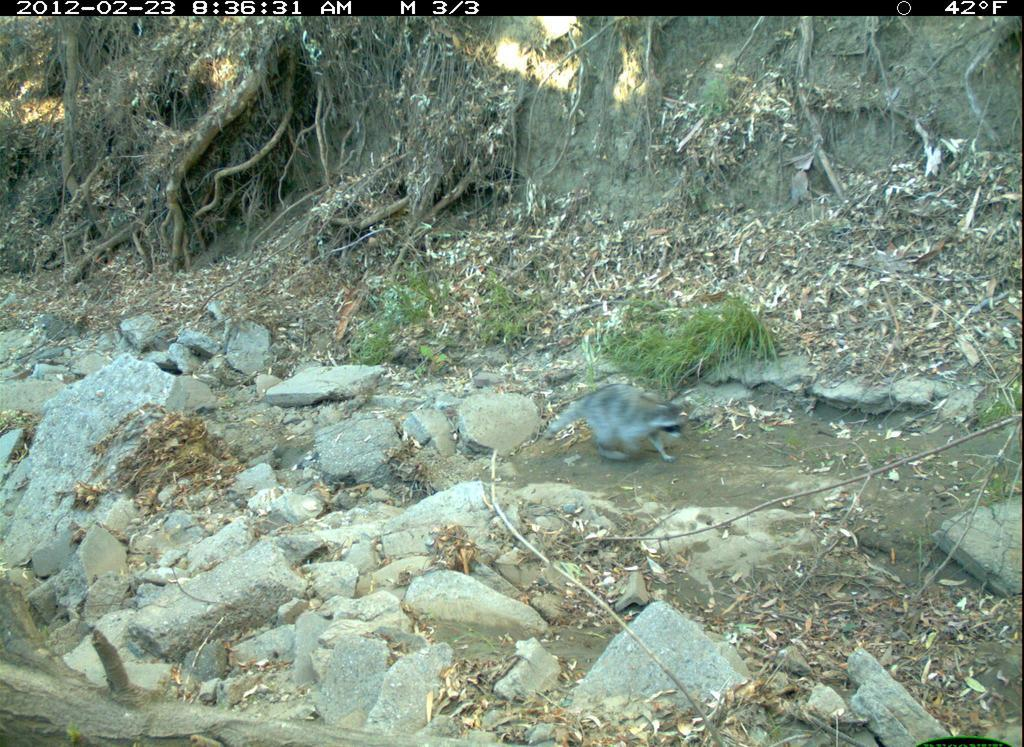raccoon: (545, 374, 698, 473)
